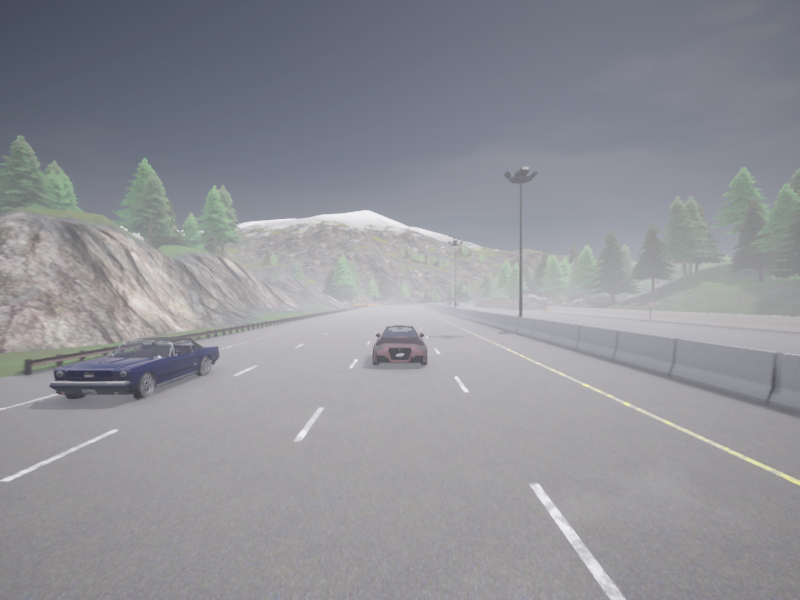vehicle: (49, 337, 218, 399), (372, 326, 427, 365), (466, 300, 473, 304), (442, 303, 448, 306), (448, 302, 453, 305), (456, 302, 458, 305)
